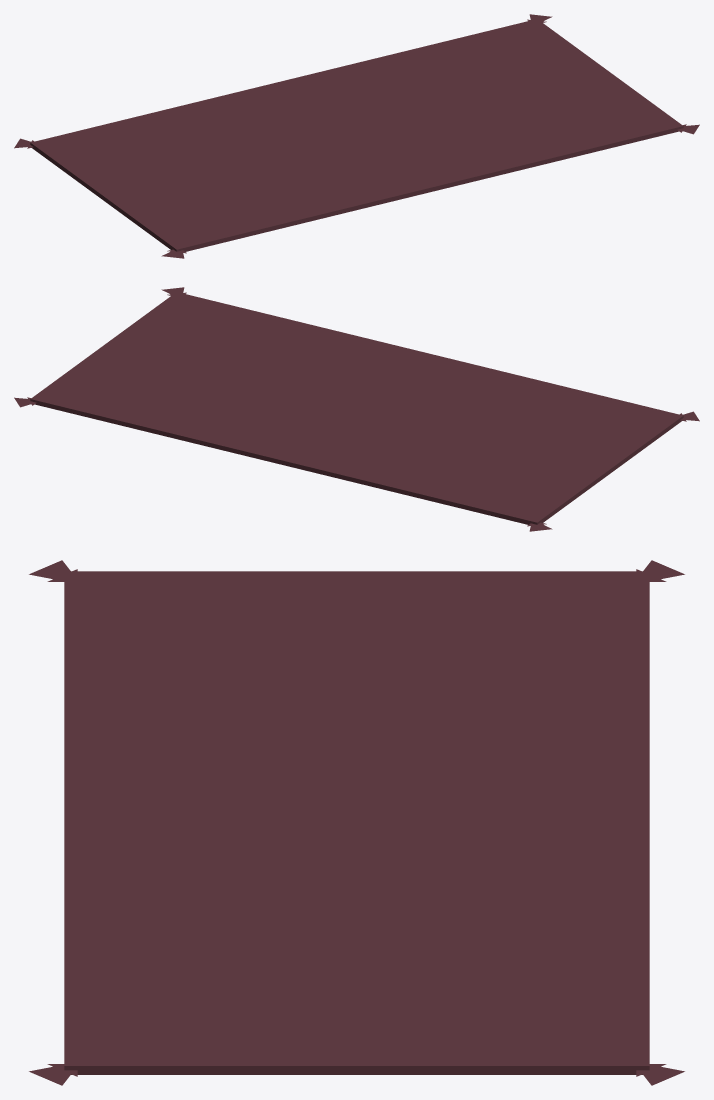
File: SM_Carpet_Big_Empire.fbx
3 views of the same model, one above another, from view 1: azimuth 30°, elevation 25°; view 2: azimuth 150°, elevation 25°; view 3: azimuth 270°, elevation 25° (orthographic). The views are drawn at different scales.
Visible parts, largest first — view 1: SM_Carpet_Big_Empire; view 2: SM_Carpet_Big_Empire; view 3: SM_Carpet_Big_Empire.
Part boxes in pixels (box(x1,y1,x2,y2)): SM_Carpet_Big_Empire: box(14, 14, 699, 258); SM_Carpet_Big_Empire: box(14, 287, 699, 531); SM_Carpet_Big_Empire: box(29, 560, 684, 1085).
Size of the model in its own units: 6.38 by 0.05 by 3.37.
